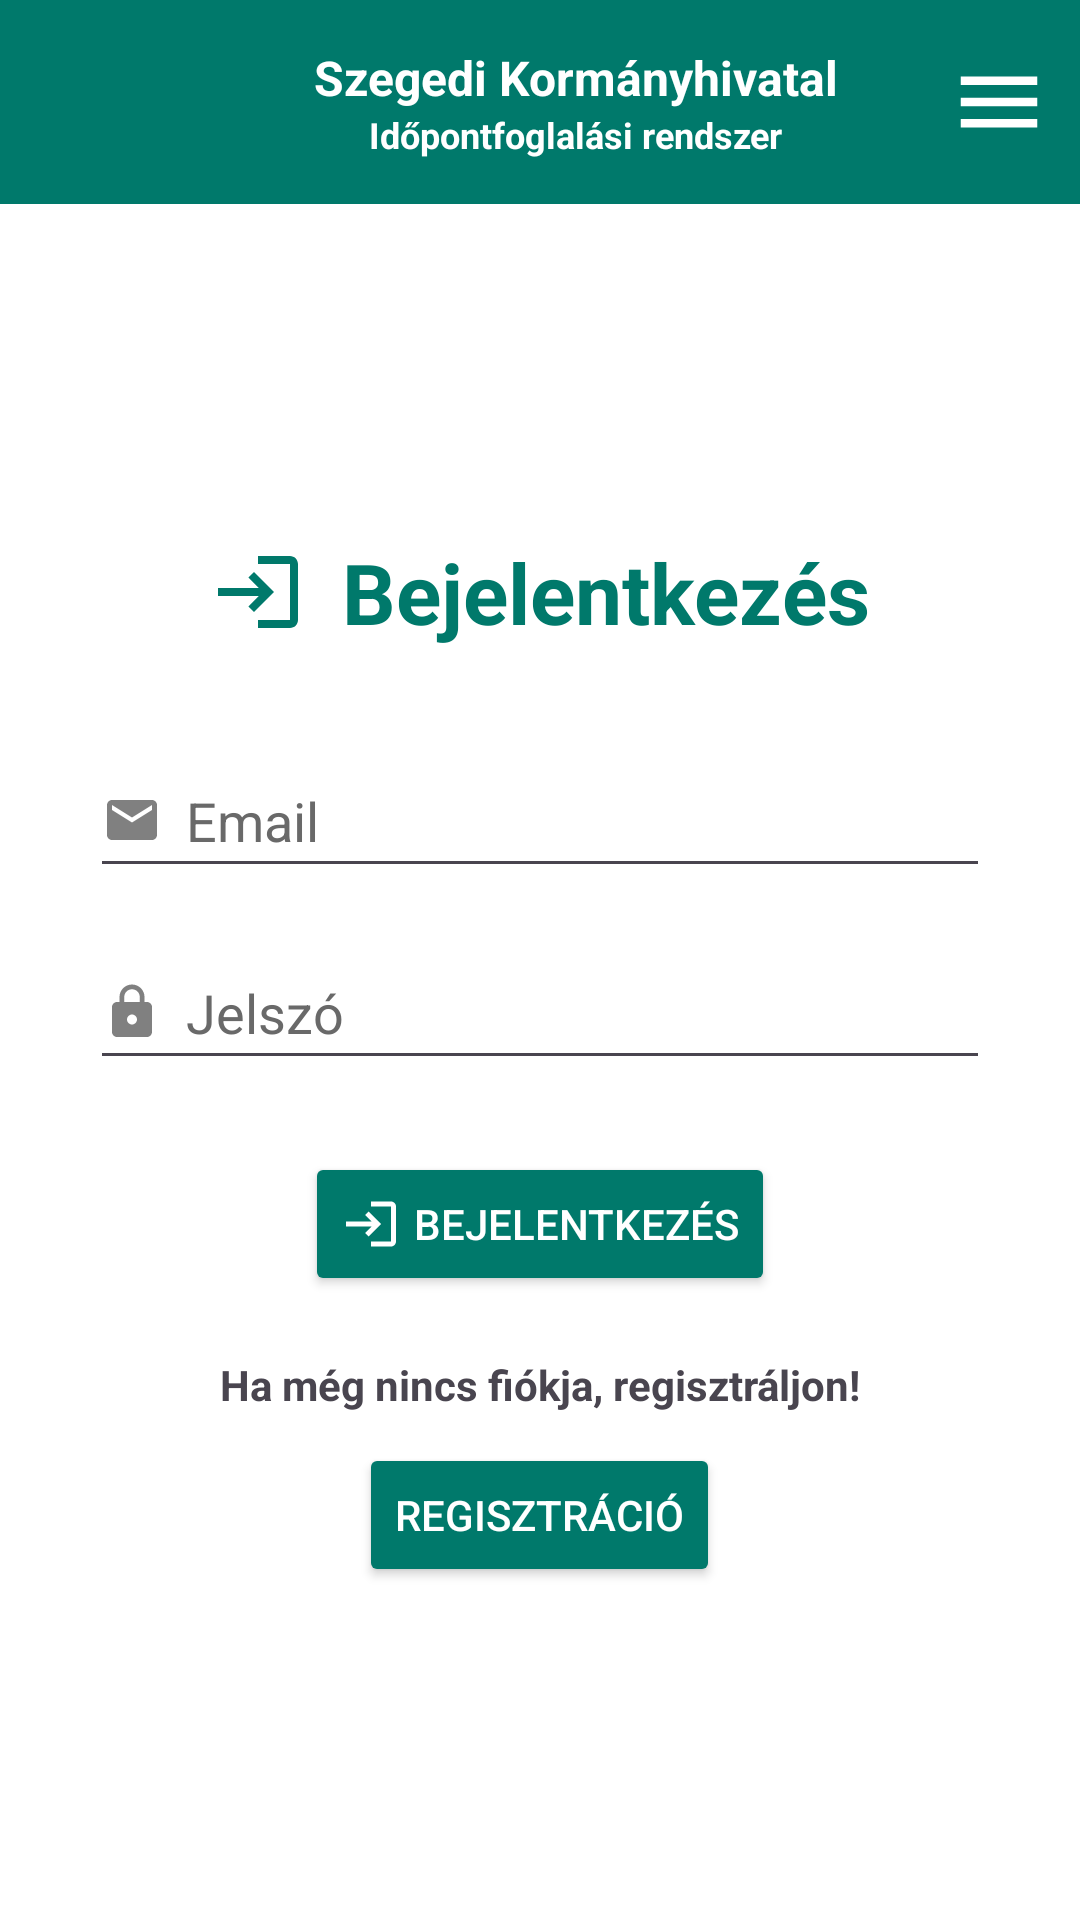

Icons on this 1080*1920 Android screen, each with its box as (x1, y1, x2, y2):
Menű: (960, 76, 1038, 128)
